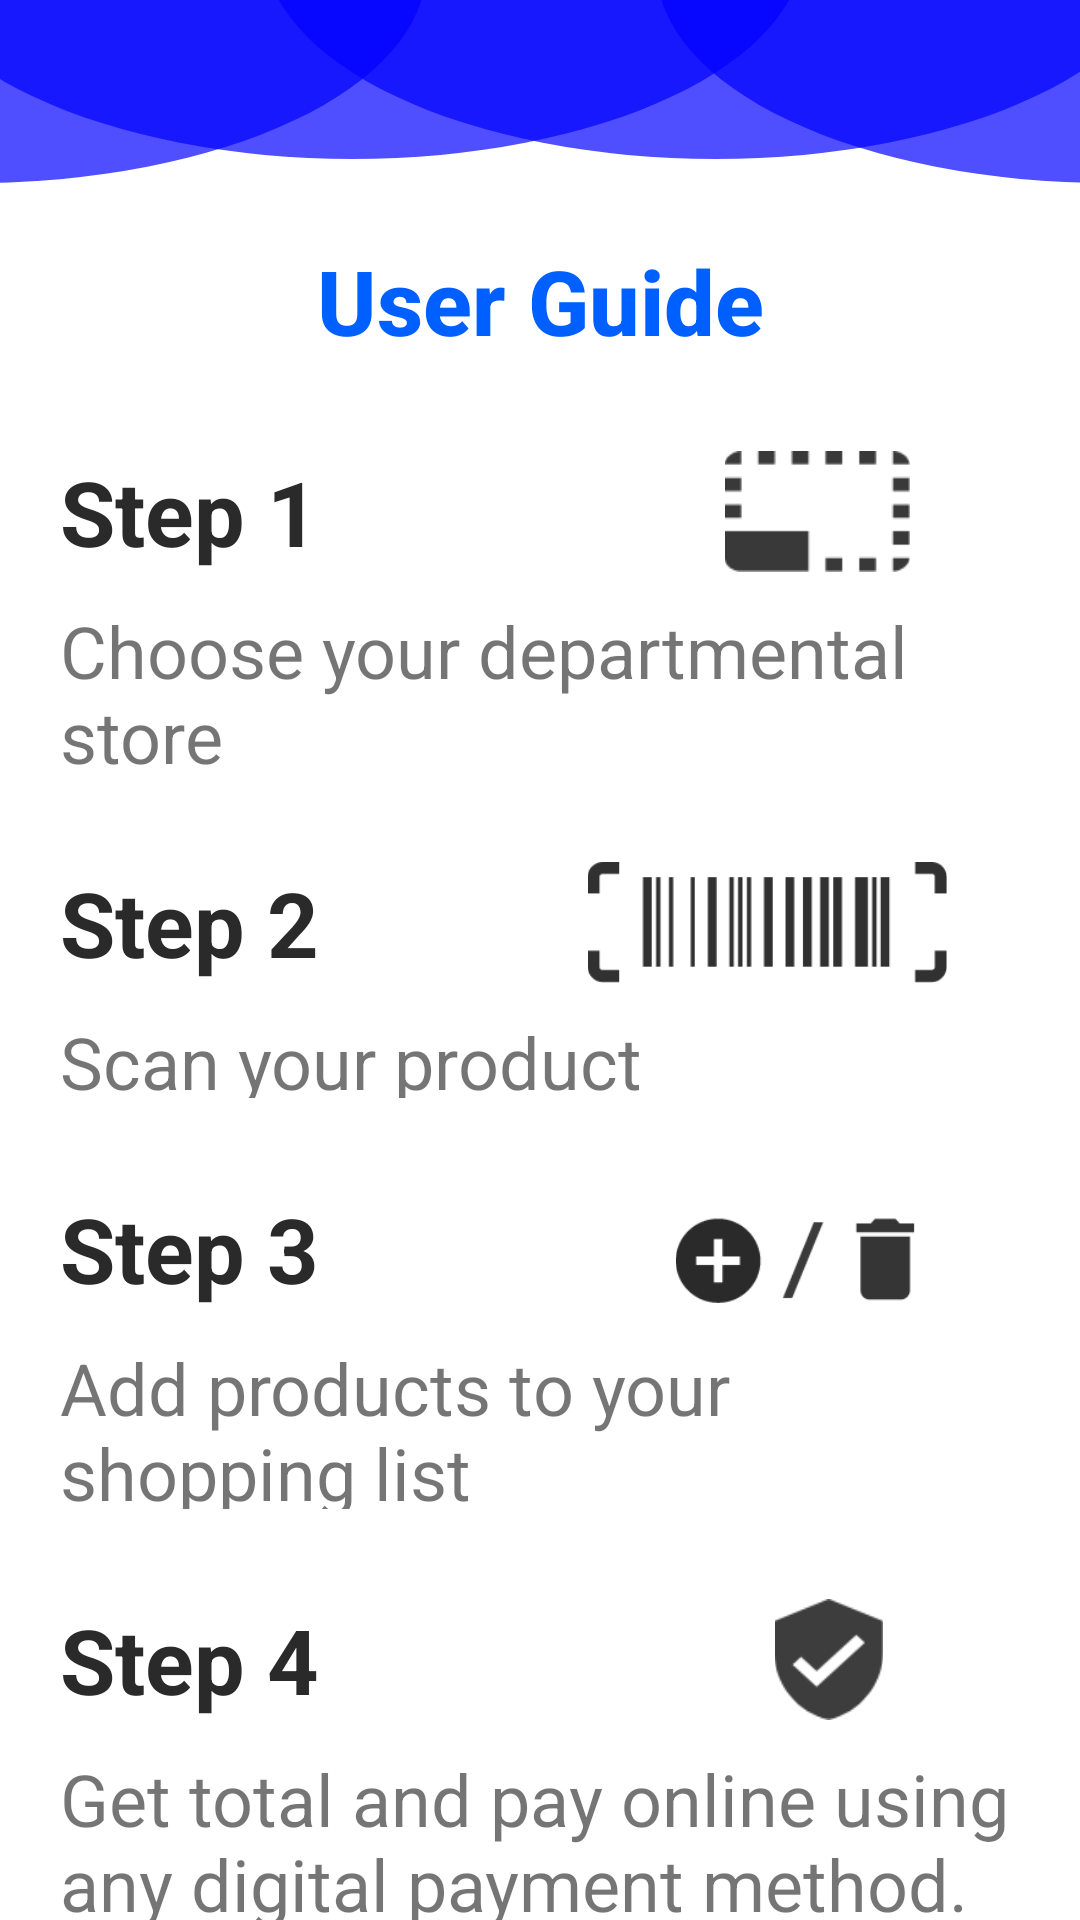

Where icons sit on this 1080×1920 app screen, as (x1, y1, x2, y2):
adddelete: (676, 1218, 915, 1303)
scancode: (588, 862, 947, 983)
select: (725, 451, 910, 572)
